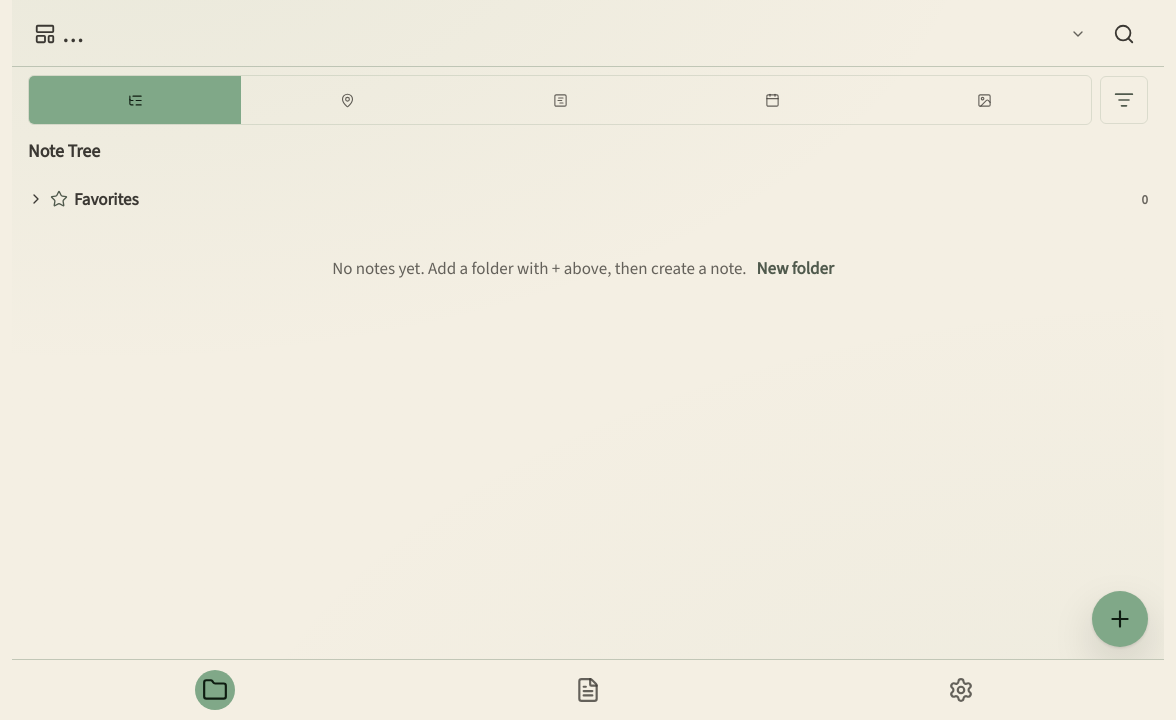
Test case: MobileApp — tab history invariant (V2) and search-query scoping (V1) › a layer left open on home (selection mode keeps the tab bar usable) is consumed by a tab move, so coming back lands on home
The width and height of the screenshot is (1176, 720).
Click the button named "Settings": (961, 690) [775, 666, 1148, 714]
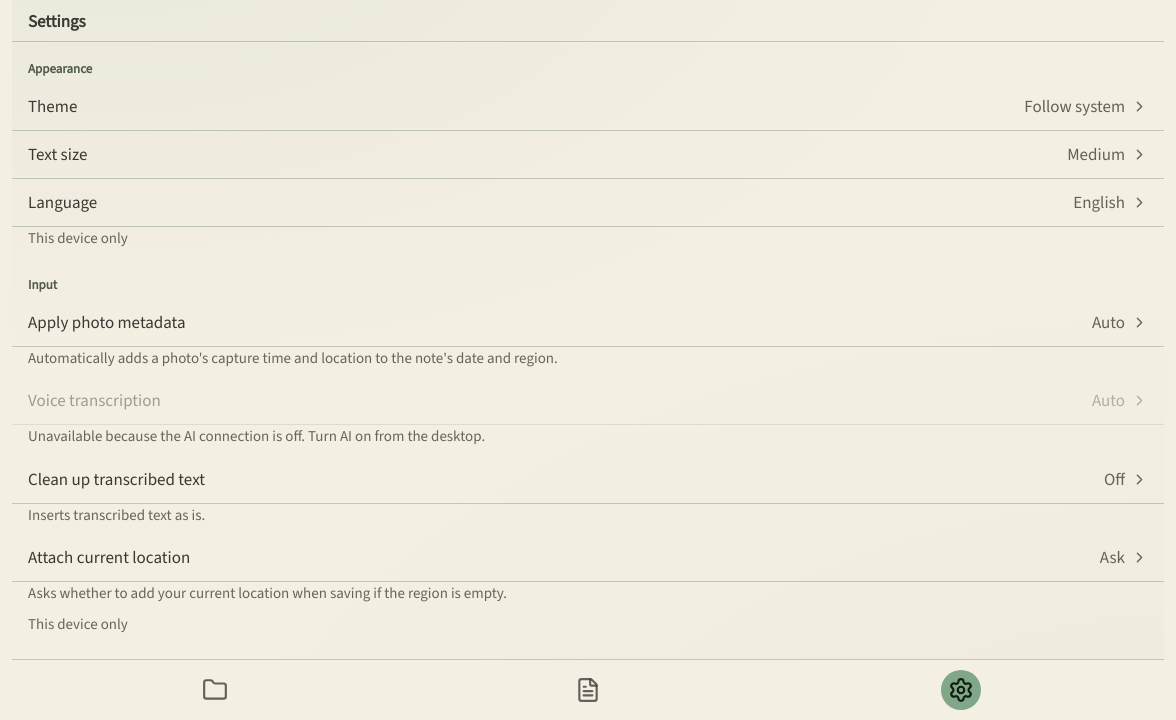
Click the button named "Notes": (215, 690) [28, 666, 401, 714]
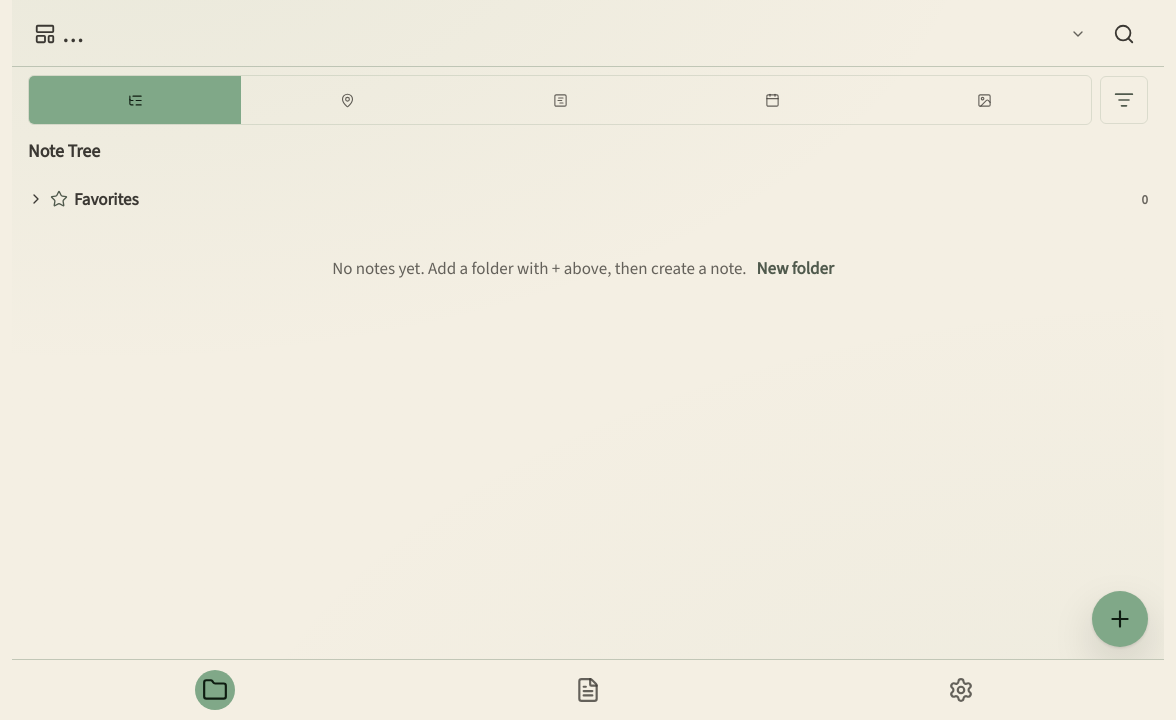
Expected: the button named "Search notes, tags, sources…" is shown, [1100, 10, 1148, 58]
